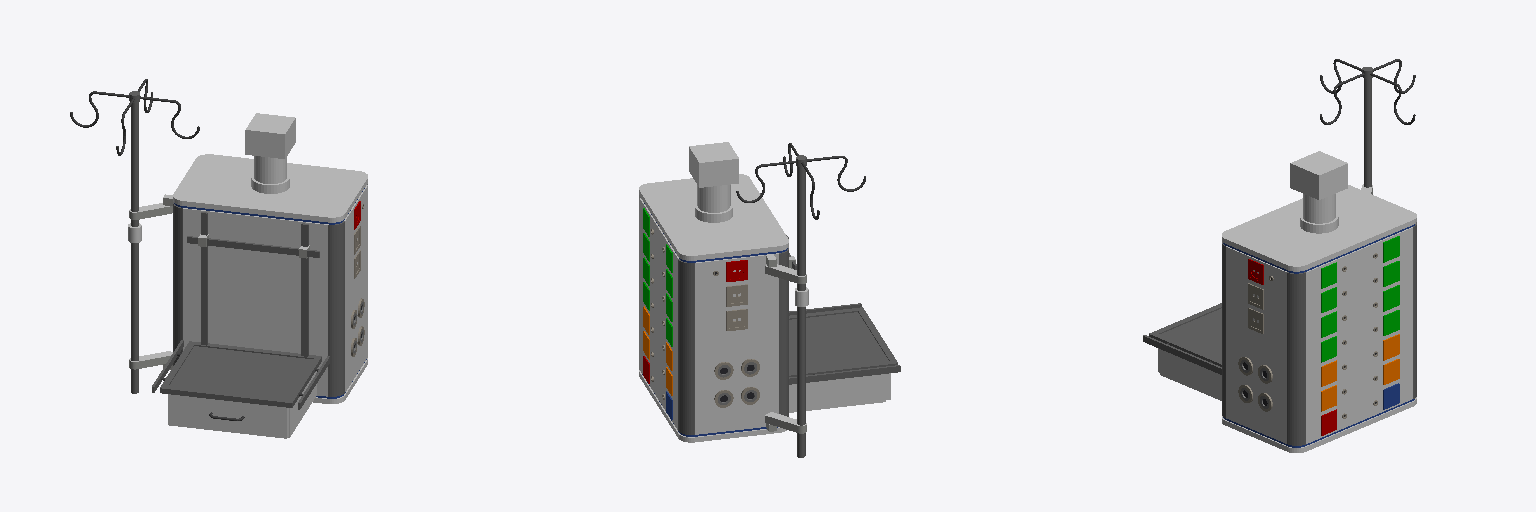
File: stativ_ohneArm.obj
The picture shows the model from 3 angles: view 1: azimuth 30°, elevation 25°; view 2: azimuth 150°, elevation 25°; view 3: azimuth 270°, elevation 25°; orthographic projection.
Visible parts, largest first — view 1: Decke-001.006; view 2: Decke-001.006; view 3: Decke-001.006.
Part boxes in pixels (bbox=[...]): Decke-001.006: bbox=[70, 79, 367, 438]; Decke-001.006: bbox=[639, 142, 900, 457]; Decke-001.006: bbox=[1143, 59, 1416, 452].
Size of the model in its own units: 1 by 1.2 by 0.998.